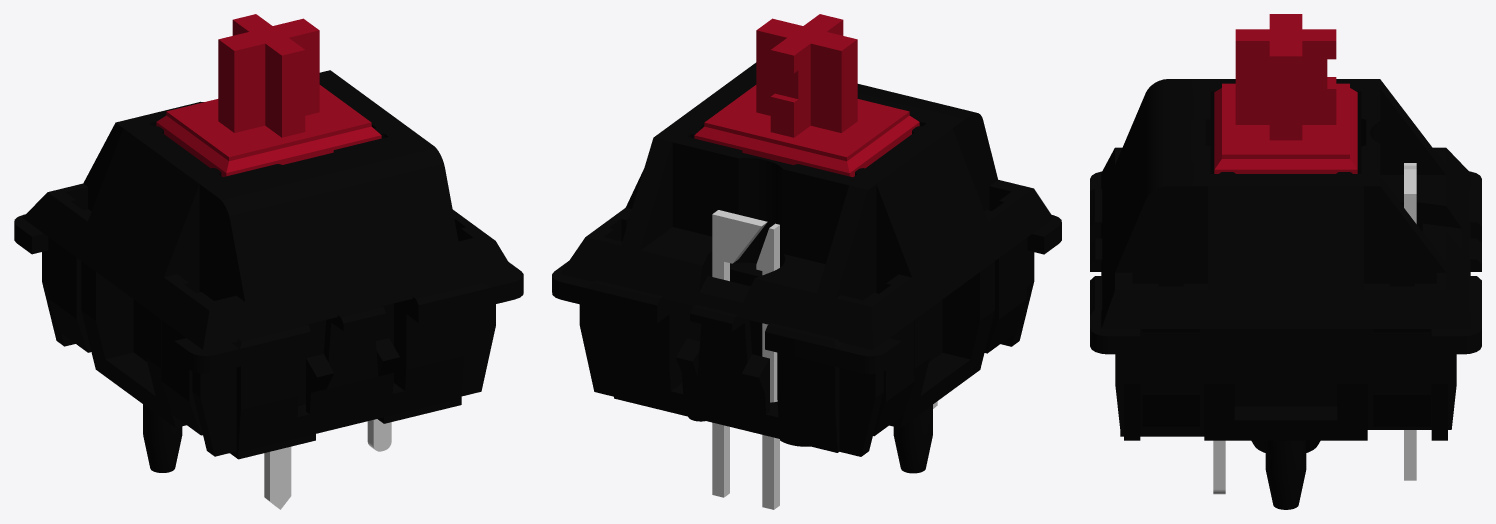
File: red.glb
3 renders of one model, left to right at view 1: azimuth 30°, elevation 25°; view 2: azimuth 150°, elevation 25°; view 3: azimuth 270°, elevation 25°, orthographic. The views are drawn at different scales.
Visible parts, largest first — view 1: Mid Top, Mid Bottom, Mid Switch, Mid LED; view 2: Mid Top, Mid Bottom, Mid Switch, Mid LED; view 3: Mid Top, Mid Bottom, Mid Switch, Mid LED.
Boxes of the visible parts, bbox=[...] form: Mid Top: bbox=[22, 70, 515, 435]; Mid Bottom: bbox=[14, 214, 523, 472]; Mid Switch: bbox=[156, 14, 381, 176]; Mid LED: bbox=[264, 419, 391, 509]; Mid Top: bbox=[560, 62, 1053, 436]; Mid Bottom: bbox=[552, 215, 1061, 473]; Mid Switch: bbox=[694, 14, 919, 177]; Mid LED: bbox=[712, 210, 937, 509]; Mid Top: bbox=[1101, 79, 1470, 426]; Mid Bottom: bbox=[1090, 171, 1481, 509]; Mid Switch: bbox=[1214, 14, 1357, 173]; Mid LED: bbox=[1213, 163, 1416, 494].
Bounding box in the file's own units: 0.3613 × 0.4377 × 0.3613.
